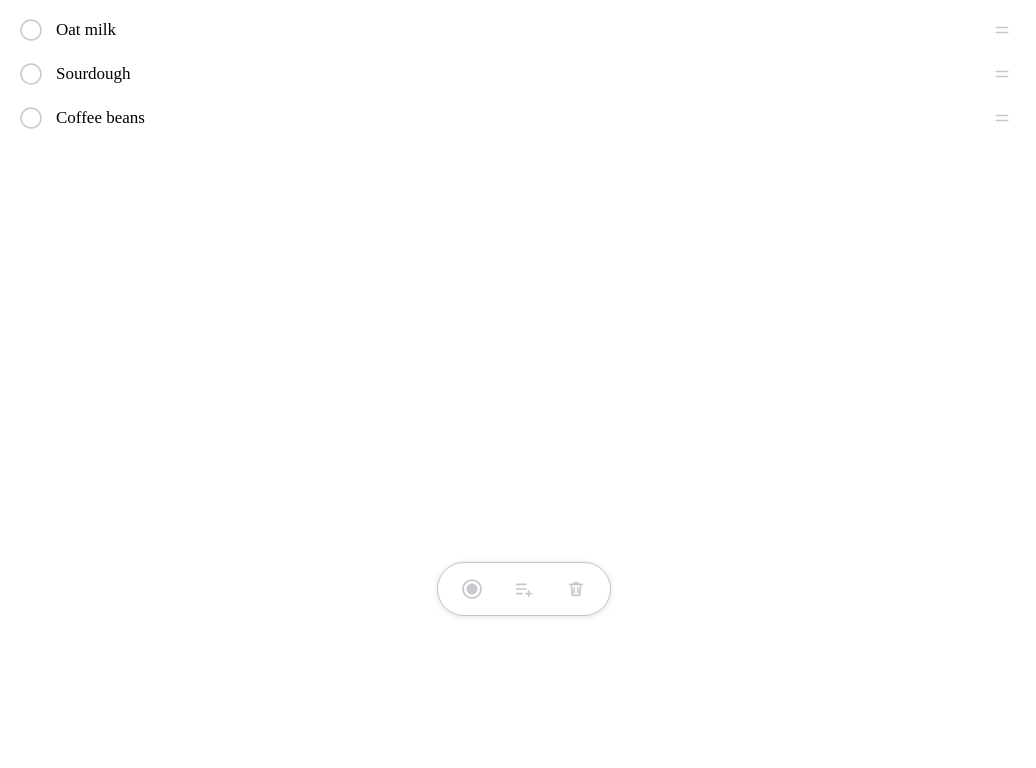
TaskList selection mode (Unit) › replaces the new-task button with the action bar the moment selection mode opens
expect the button named "Delete selected tasks" is disabled: met, box [554,567,598,611]
expect the element named "Nothing selected" is shown: met, box [437,562,611,616]
Click the button "Oat milk". click: [86, 30]
box: [56,8,940,52]
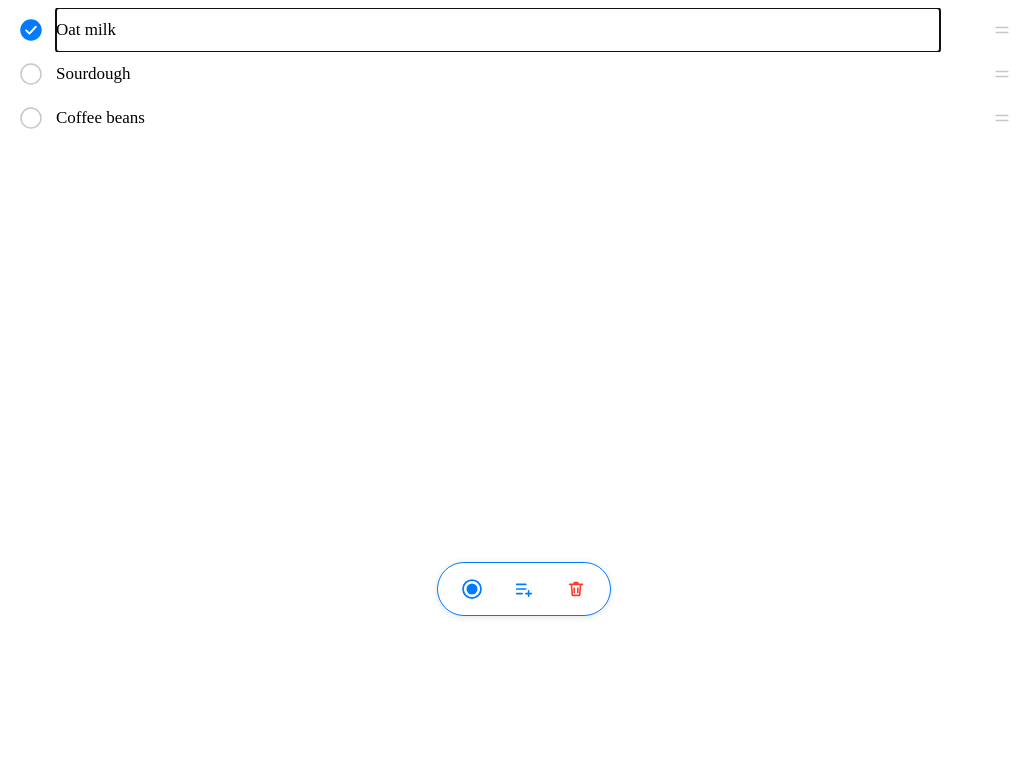
expect the button named "Delete selected tasks" is enabled: met, box [554,567,598,611]
expect the element named "1 selected" is shown: met, box [437,562,611,616]
